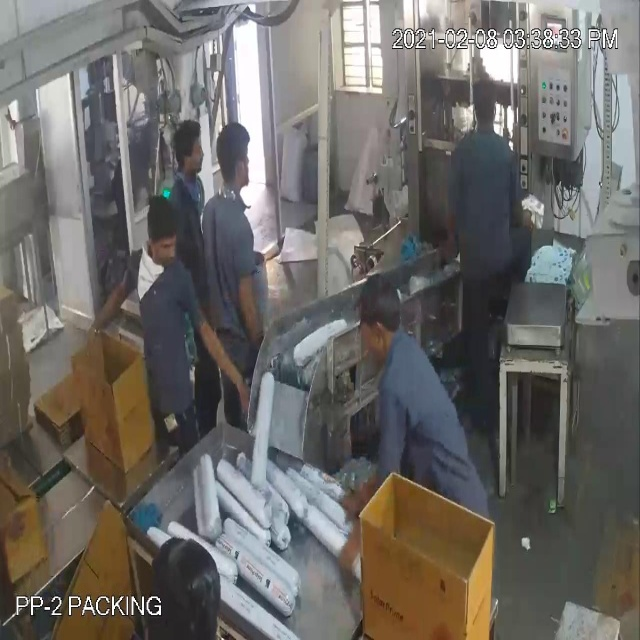Sin_guantes: (185, 297, 272, 418), (77, 268, 144, 358), (334, 488, 384, 578)
